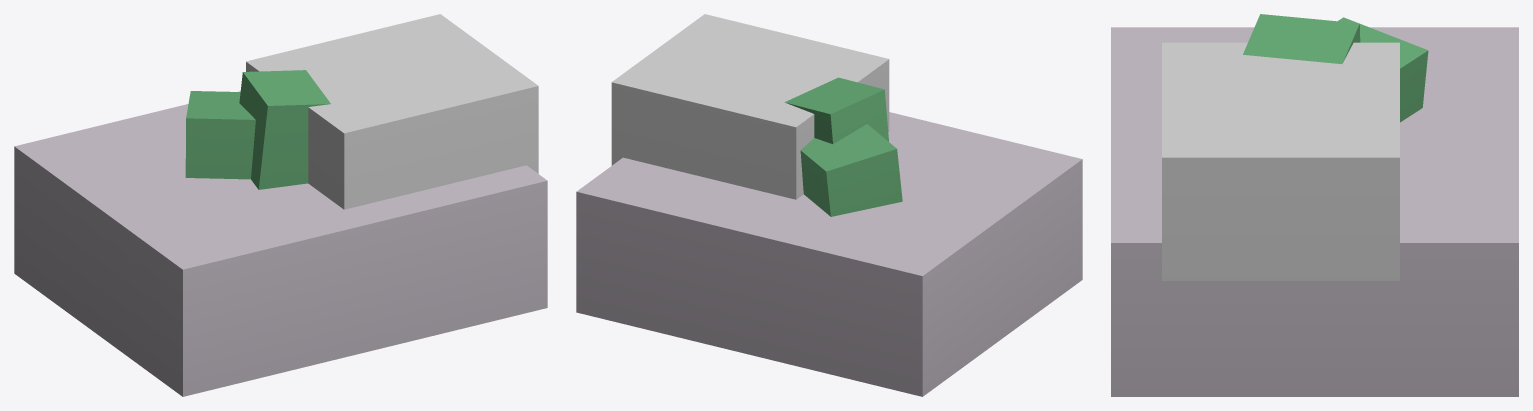
File: snow-tuft.glb
3 renders of one model, left to right at view 1: azimuth 30°, elevation 25°; view 2: azimuth 150°, elevation 25°; view 3: azimuth 270°, elevation 25°, orthographic. The views are drawn at different scales.
Visible parts, largest first — view 1: snow-tuft_body; view 2: snow-tuft_body; view 3: snow-tuft_body.
Part boxes in pixels (x1,y1,x2,y2): snow-tuft_body: (14, 14, 547, 396); snow-tuft_body: (576, 14, 1082, 396); snow-tuft_body: (1111, 14, 1518, 396).
Size of the model in its own units: 0.31 by 0.1678 by 0.24.
